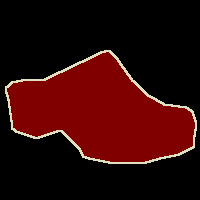shoe: (6, 50, 196, 163)
